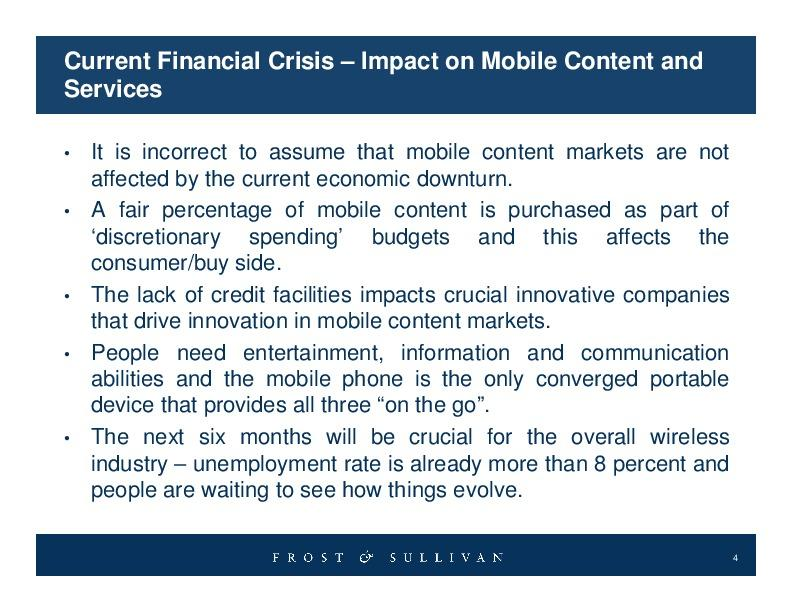paragraph: (60, 137, 745, 514)
title: (50, 38, 717, 111)
